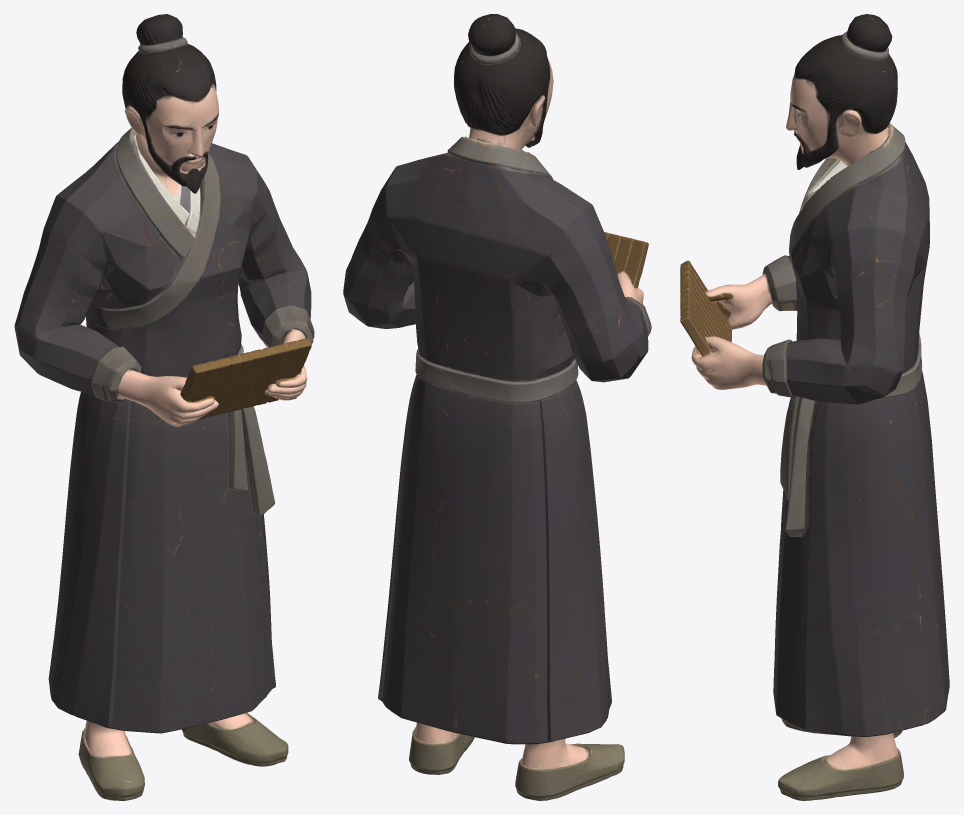
Rendered from officer.glb.
3 views of the same model, side by side, from view 1: azimuth 30°, elevation 25°; view 2: azimuth 150°, elevation 25°; view 3: azimuth 270°, elevation 25° (orthographic). The views are drawn at different scales.
Bounding box in the file's own units: 0.7674 × 1.9 × 0.6285.
1 material, 1 textured.
